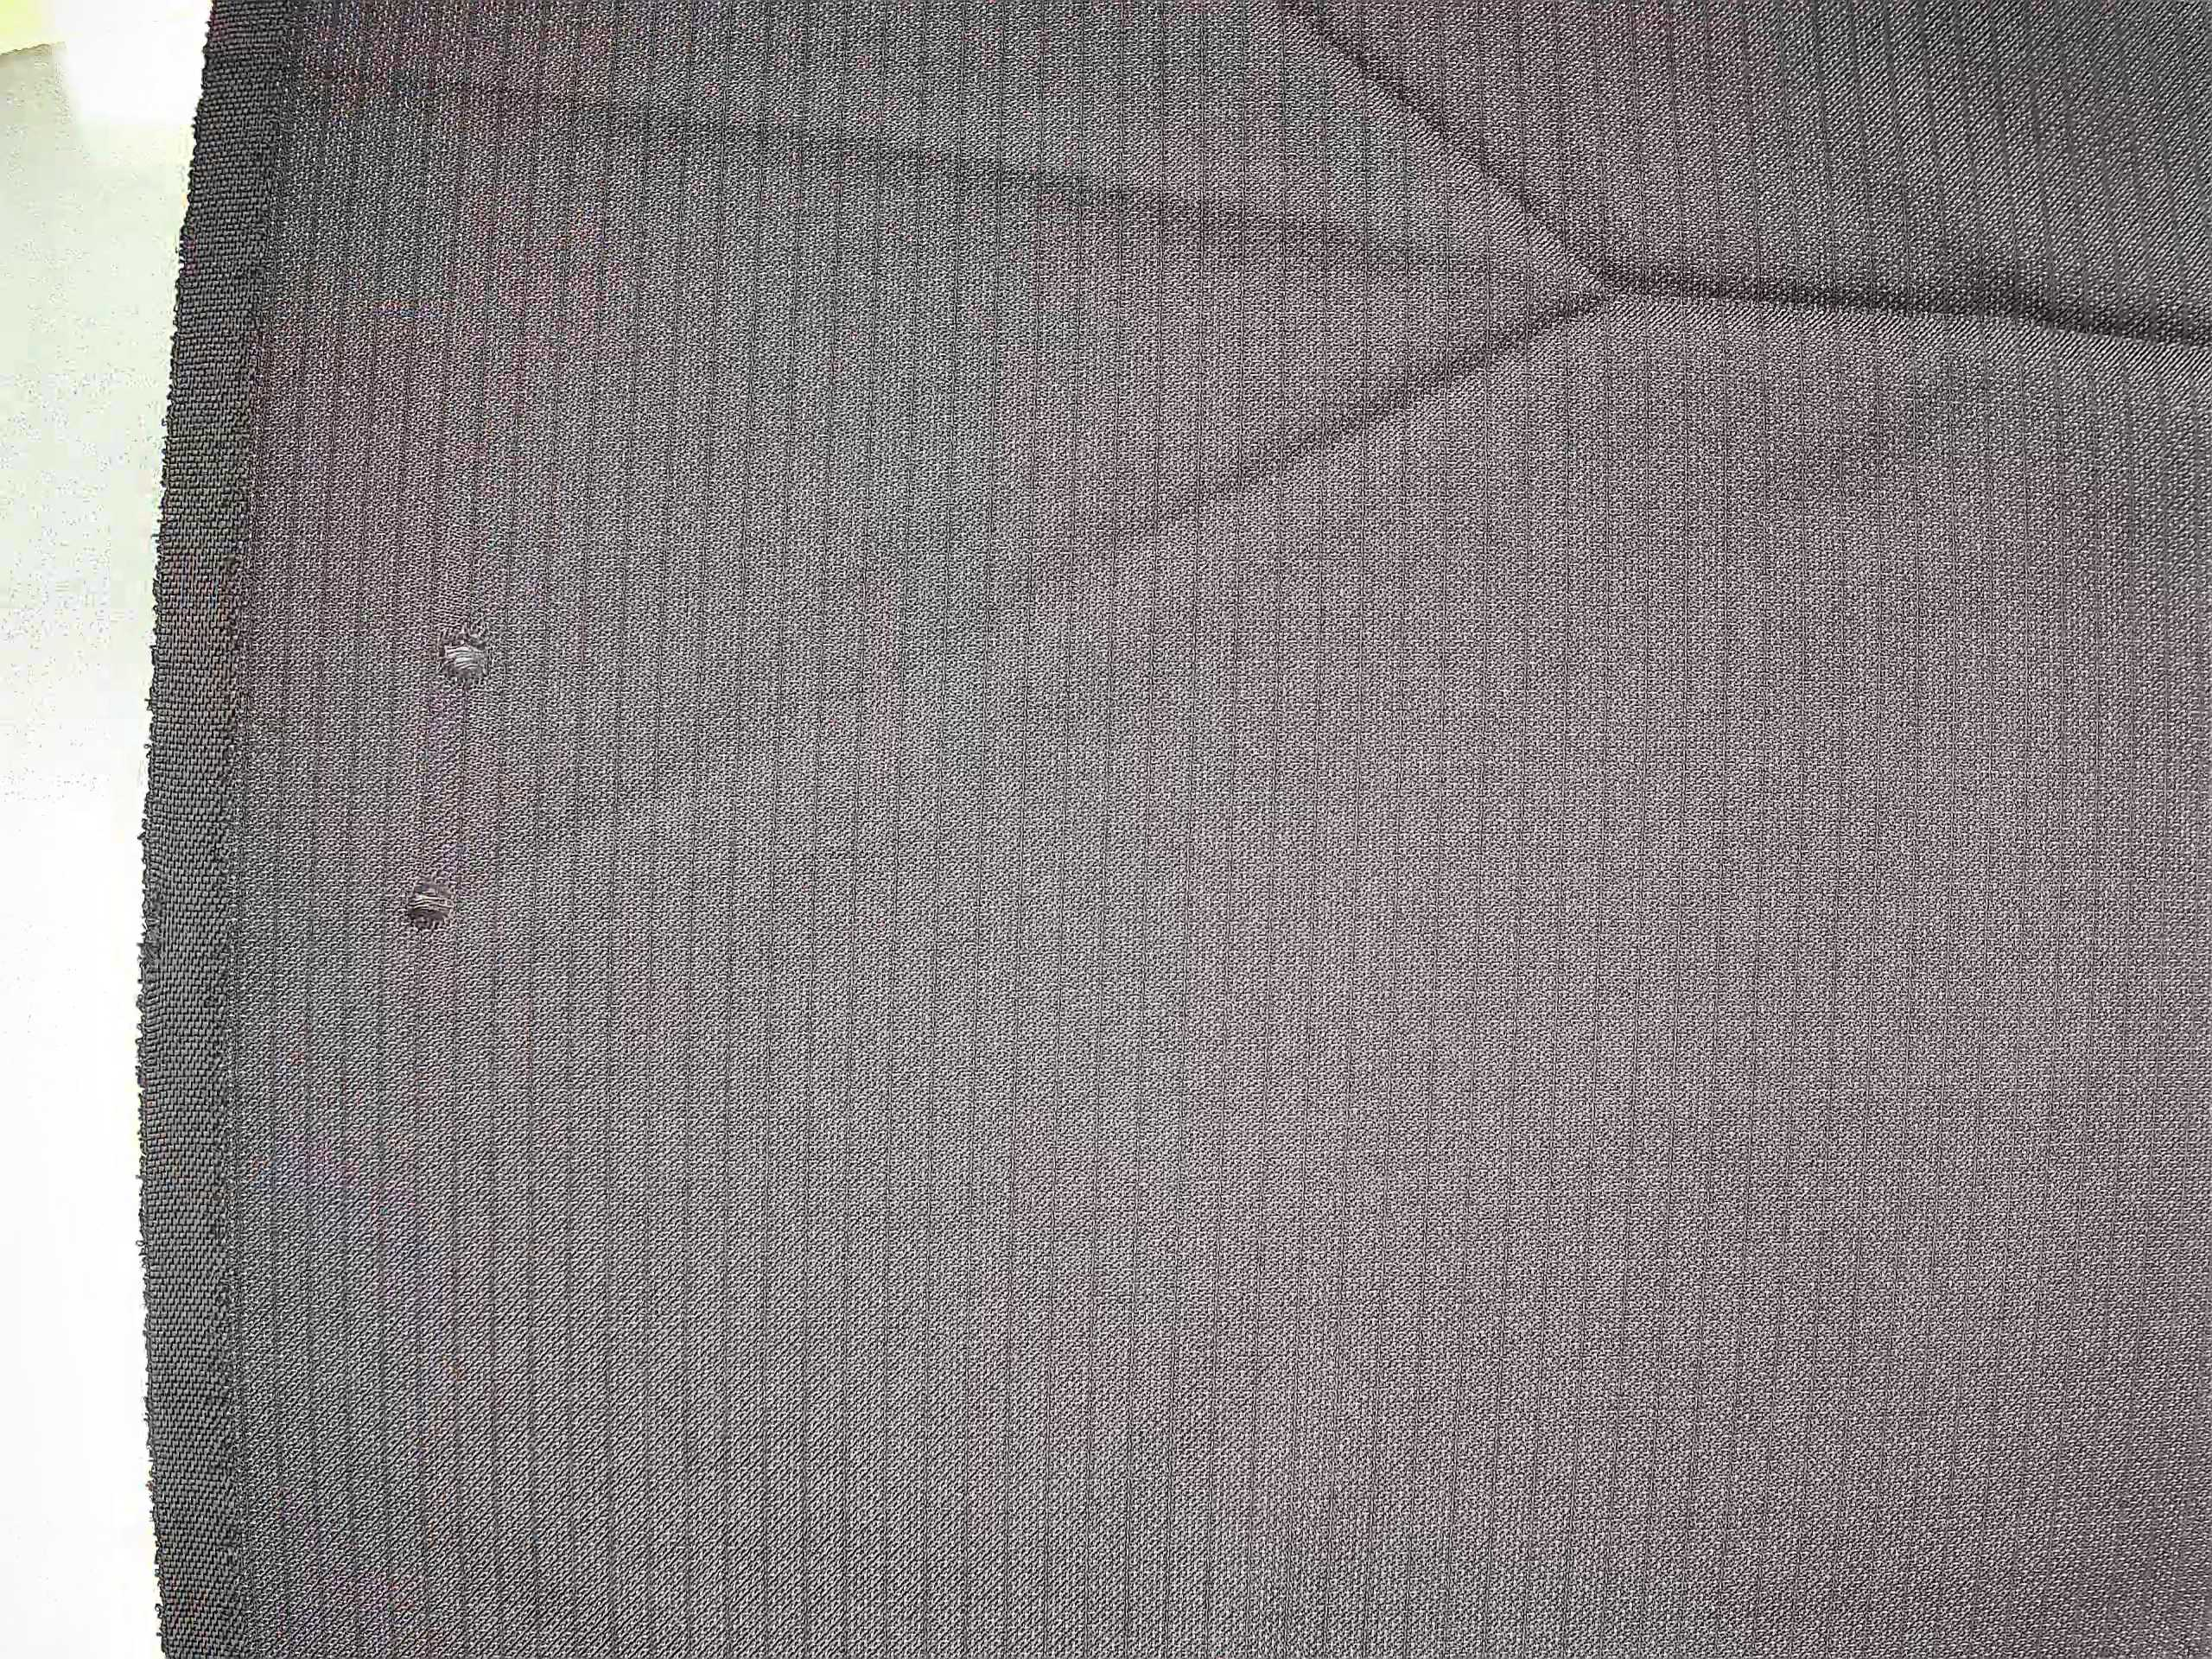rubbing-hole: (404, 608, 524, 706), (378, 856, 477, 960)
